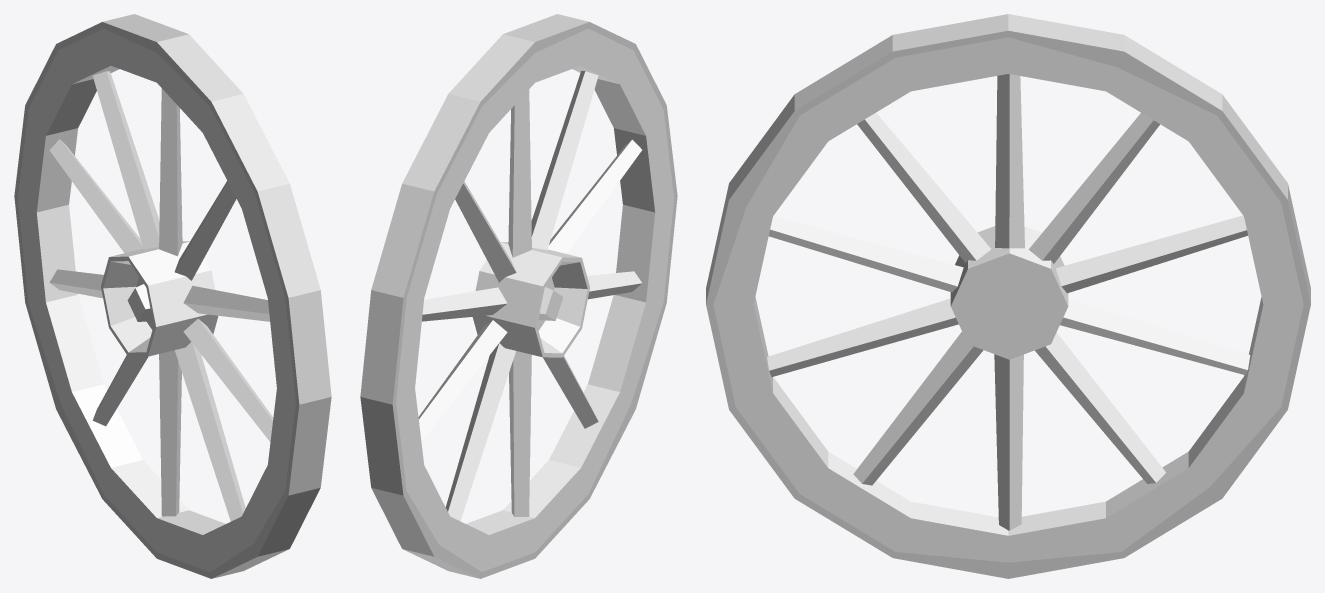
File: Wheel9.fbx
3 views of the same model, side by side, from view 1: azimuth 30°, elevation 25°; view 2: azimuth 150°, elevation 25°; view 3: azimuth 270°, elevation 25° (orthographic). The views are drawn at different scales.
Parts seen in each view (by area): view 1: WheelWood; view 2: WheelWood; view 3: WheelWood.
Boxes of the visible parts, box(x1,y1,x2,y2) form: WheelWood: box(14, 14, 331, 578); WheelWood: box(360, 14, 677, 578); WheelWood: box(706, 14, 1310, 578).
Bounding box in the file's own units: 10.61 × 82.61 × 82.61.
